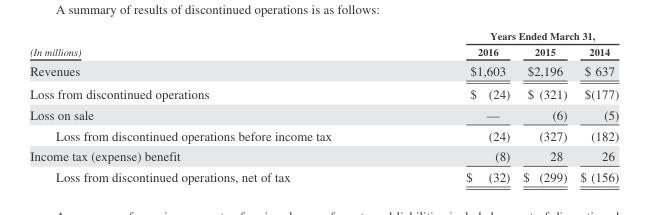table: (29, 29, 618, 183)
table column: (29, 29, 398, 183), (398, 29, 515, 183), (515, 29, 572, 183), (572, 29, 618, 183)
table column header: (29, 29, 618, 60)
table row: (29, 60, 618, 82), (29, 82, 618, 104), (29, 104, 618, 125), (29, 145, 618, 166), (29, 125, 618, 145), (29, 43, 618, 60), (29, 166, 618, 183), (29, 29, 618, 43)
table spanning cell: (29, 29, 398, 60), (398, 29, 618, 43)
